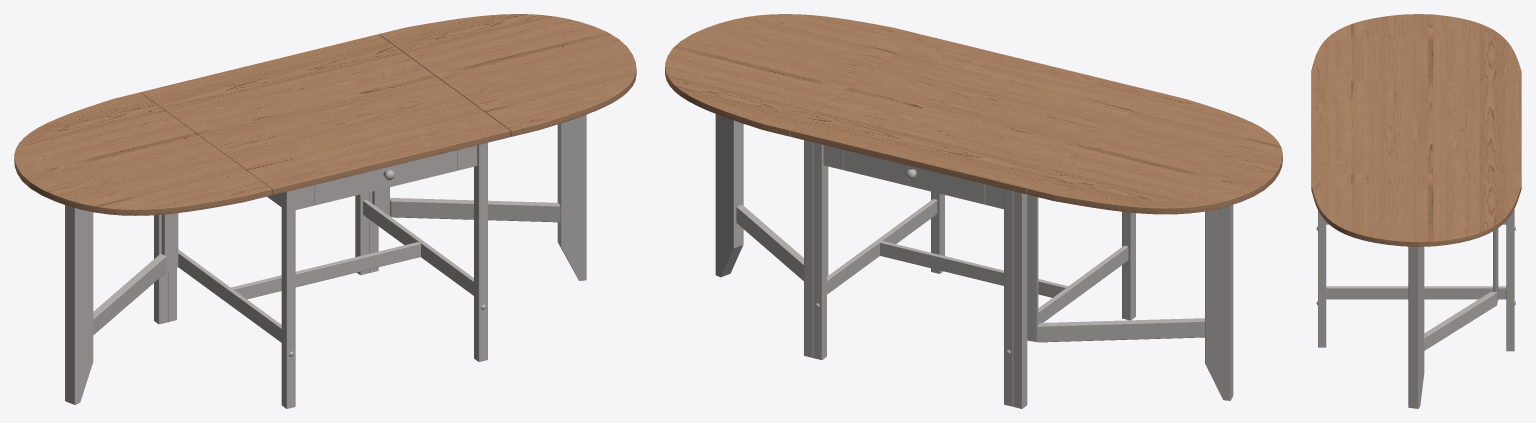
Rendered from GAMLEBY_Folding_Table.obj.
3 renders of one model, left to right at view 1: azimuth 30°, elevation 25°; view 2: azimuth 150°, elevation 25°; view 3: azimuth 270°, elevation 25°, orthographic. The views are drawn at different scales.
Visible parts, largest first — view 1: Box001, Line002, Line001, Box019, Box025, Box005, Box024, Box002, Box006, Box022, Box021, Box023 (+4 smaller); view 2: Box001, Line002, Line001, Box019, Box025, Box020, Box012, Box011, Box009, Box022, Box013, Box007 (+6 smaller); view 3: Box001, Line001, Line002, Box025, Box023, Box024, Box013, Box006, Box018.
Boxes of the visible parts, <box> form: Box001: <box>140,34,510,194</box>; Line002: <box>14,92,272,215</box>; Line001: <box>379,14,636,136</box>; Box019: <box>65,205,93,404</box>; Box025: <box>557,114,586,280</box>; Box005: <box>281,189,295,408</box>; Box024: <box>390,198,560,222</box>; Box002: <box>314,150,457,205</box>; Box006: <box>474,142,487,361</box>; Box022: <box>231,242,420,299</box>; Box021: <box>178,249,281,342</box>; Box023: <box>363,200,473,295</box>; Box001: <box>790,34,1157,194</box>; Line002: <box>1027,92,1282,214</box>; Line001: <box>665,14,920,136</box>; Box019: <box>1205,205,1233,400</box>; Box025: <box>715,114,743,277</box>; Box020: <box>1037,318,1204,342</box>; Box012: <box>1013,191,1027,408</box>; Box011: <box>813,142,826,359</box>; Box009: <box>843,150,985,204</box>; Box022: <box>880,241,1068,297</box>; Box013: <box>804,140,813,357</box>; Box007: <box>1004,189,1013,406</box>; Box001: <box>1311,81,1521,174</box>; Line001: <box>1311,174,1521,246</box>; Line002: <box>1311,14,1521,81</box>; Box025: <box>1408,246,1424,408</box>; Box023: <box>1326,286,1506,299</box>; Box024: <box>1424,291,1497,350</box>; Box013: <box>1506,209,1514,351</box>; Box006: <box>1318,210,1326,347</box>; Box018: <box>1493,228,1498,301</box>.
Bounding box in the file's own units: 2001 × 740 × 780.
